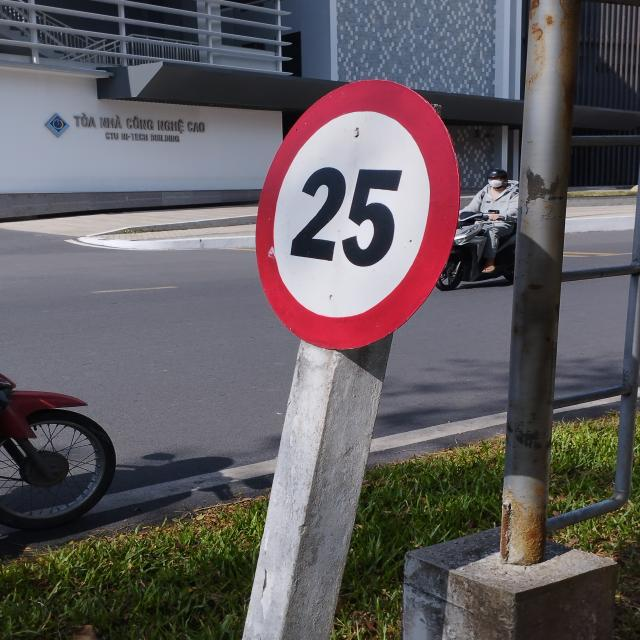Tre_Em: (257, 78, 458, 346)
